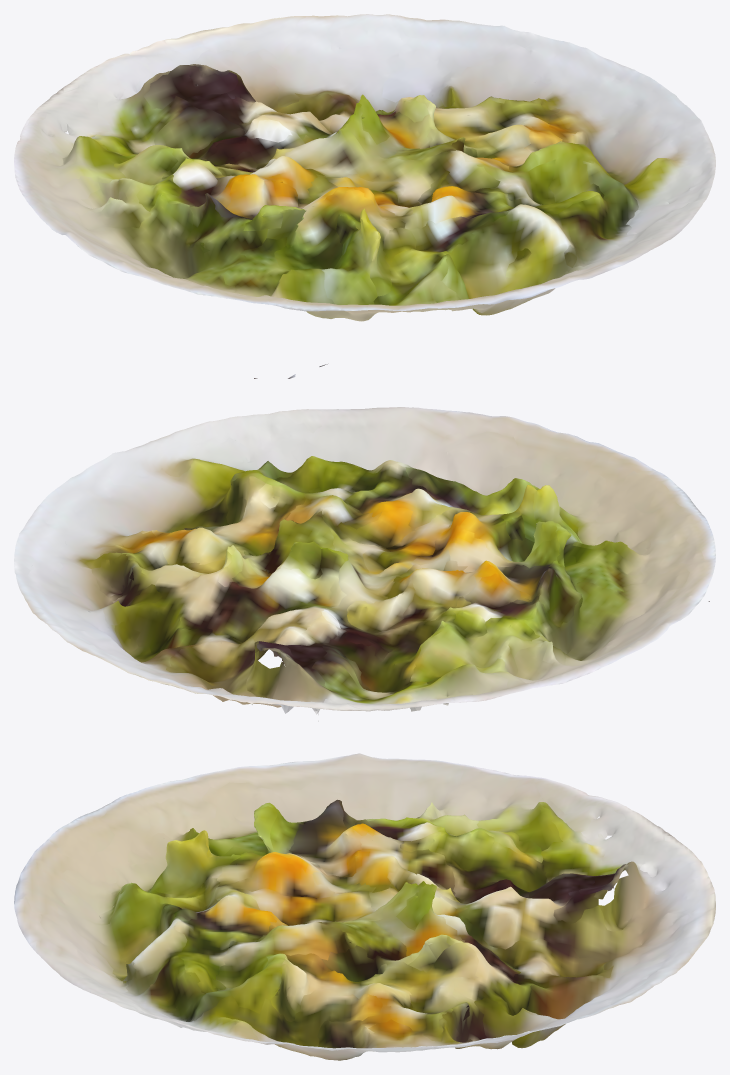
Rendered from Salad.gltf.
3 views of the same model, one above another, from view 1: azimuth 30°, elevation 25°; view 2: azimuth 150°, elevation 25°; view 3: azimuth 270°, elevation 25° (orthographic).
Visible parts, largest first — view 1: Object_2; view 2: Object_2; view 3: Object_2.
Part boxes in pixels (x1,y1,x2,y2): Object_2: (14, 14, 715, 378); Object_2: (14, 407, 715, 721); Object_2: (14, 753, 715, 1060).
Bounding box in the file's own units: 0.2757 × 0.0472 × 0.2812.
Materials: 1 (1 with a texture image).
